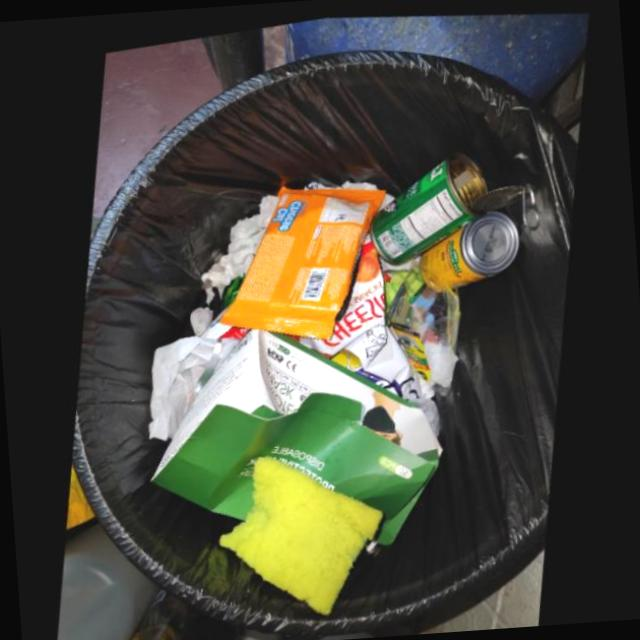bao_bi_thuc_pham: (219, 177, 384, 331), (300, 236, 436, 396)
carton: (153, 320, 444, 539)
giay: (149, 317, 226, 431), (201, 188, 279, 280)
goi_nhua_nho: (391, 325, 431, 376)
nhom: (372, 151, 541, 260), (418, 207, 519, 288)
